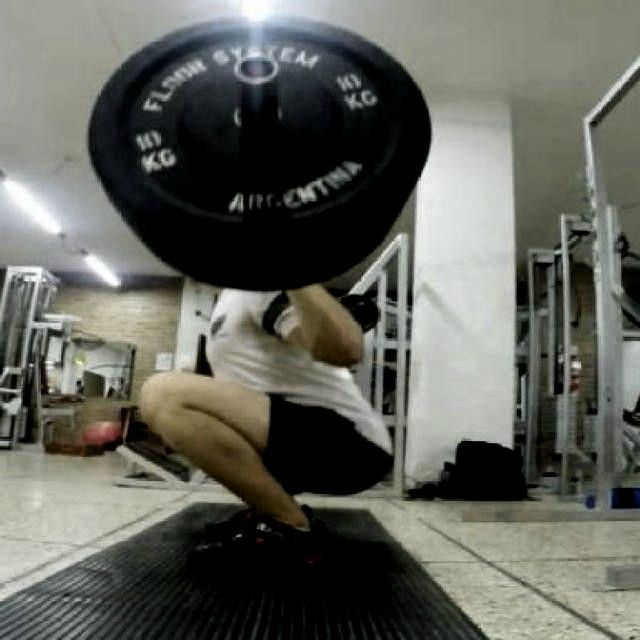barbell: (85, 6, 437, 295)
